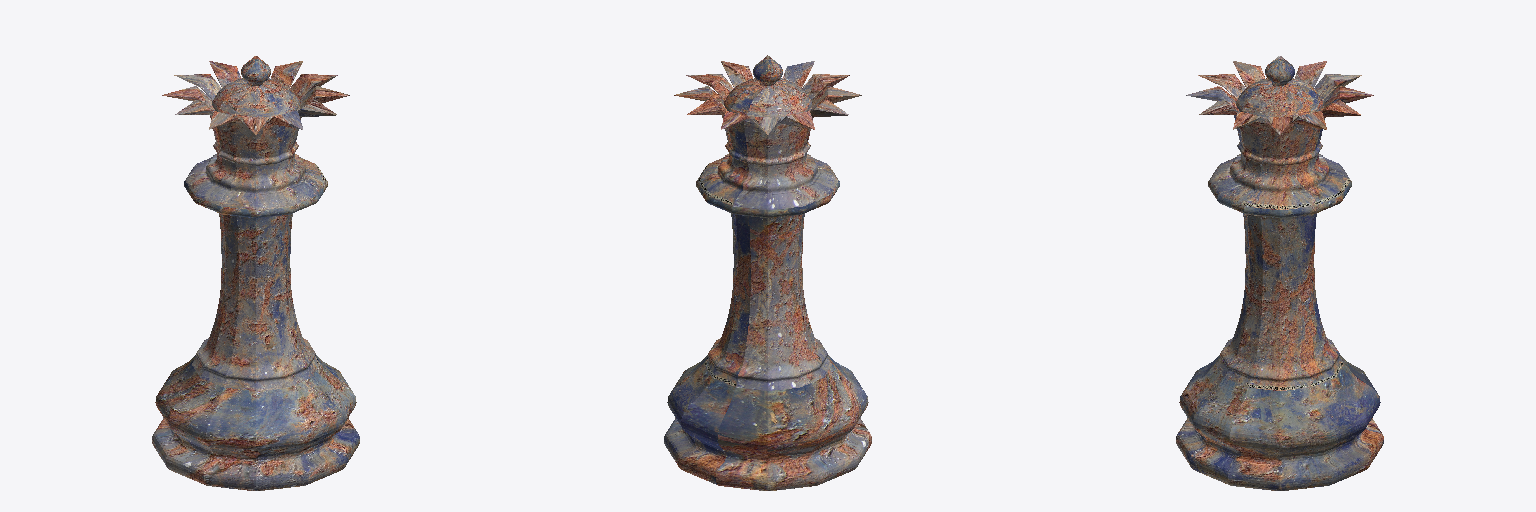
The picture shows the model from 3 angles: view 1: azimuth 30°, elevation 25°; view 2: azimuth 150°, elevation 25°; view 3: azimuth 270°, elevation 25°; orthographic projection.
Visible parts, largest first — view 1: mesh01; view 2: mesh01; view 3: mesh01.
Boxes of the visible parts, x1=… form: mesh01: x1=152, y1=56, x2=359, y2=490; mesh01: x1=664, y1=55, x2=871, y2=490; mesh01: x1=1176, y1=56, x2=1383, y2=490.
Size of the model in its own units: 14.93 by 30.95 by 14.93.
Materials: 1 (1 with a texture image).